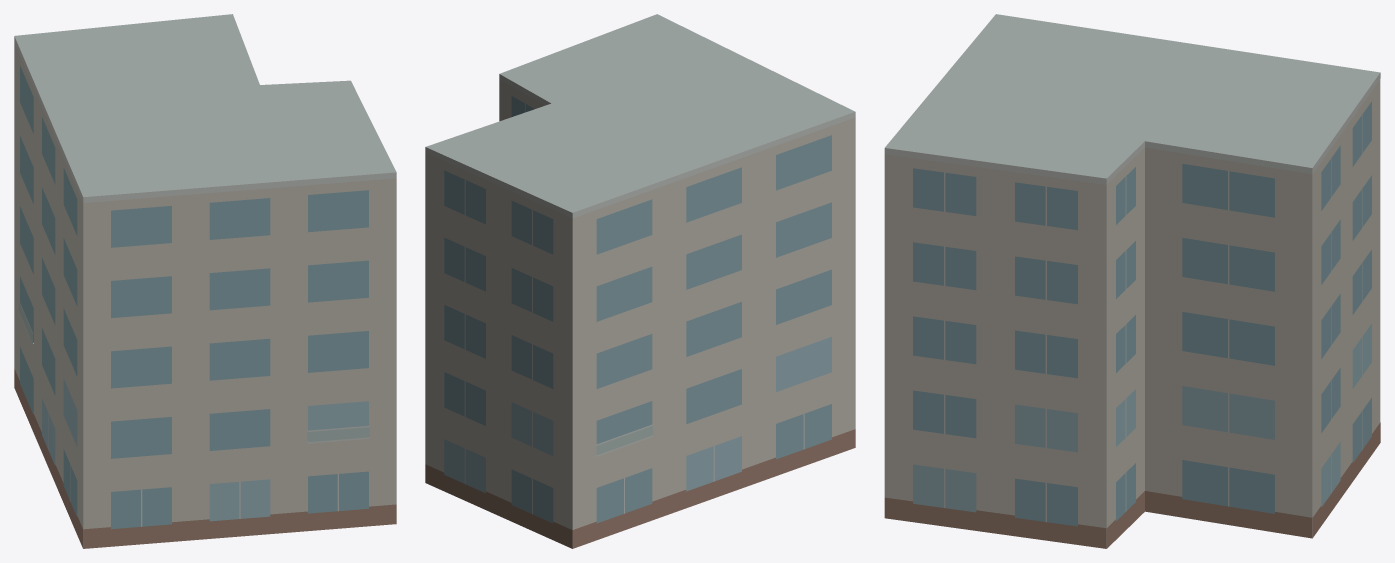
The model's file is survey-upis-32953244.glb.
3 views of the same model, side by side, from view 1: azimuth 30°, elevation 25°; view 2: azimuth 150°, elevation 25°; view 3: azimuth 270°, elevation 25° (orthographic). The views are drawn at different scales.
Visible parts, largest first — view 1: survey-upis-32953244.tmp; view 2: survey-upis-32953244.tmp; view 3: survey-upis-32953244.tmp.
Boxes of the visible parts, x1,y1,x2,y2 form: survey-upis-32953244.tmp: (14,14,396,548); survey-upis-32953244.tmp: (425,14,855,548); survey-upis-32953244.tmp: (884,14,1380,548).
Bounding box in the file's own units: 13.92 × 14.6 × 17.73.
